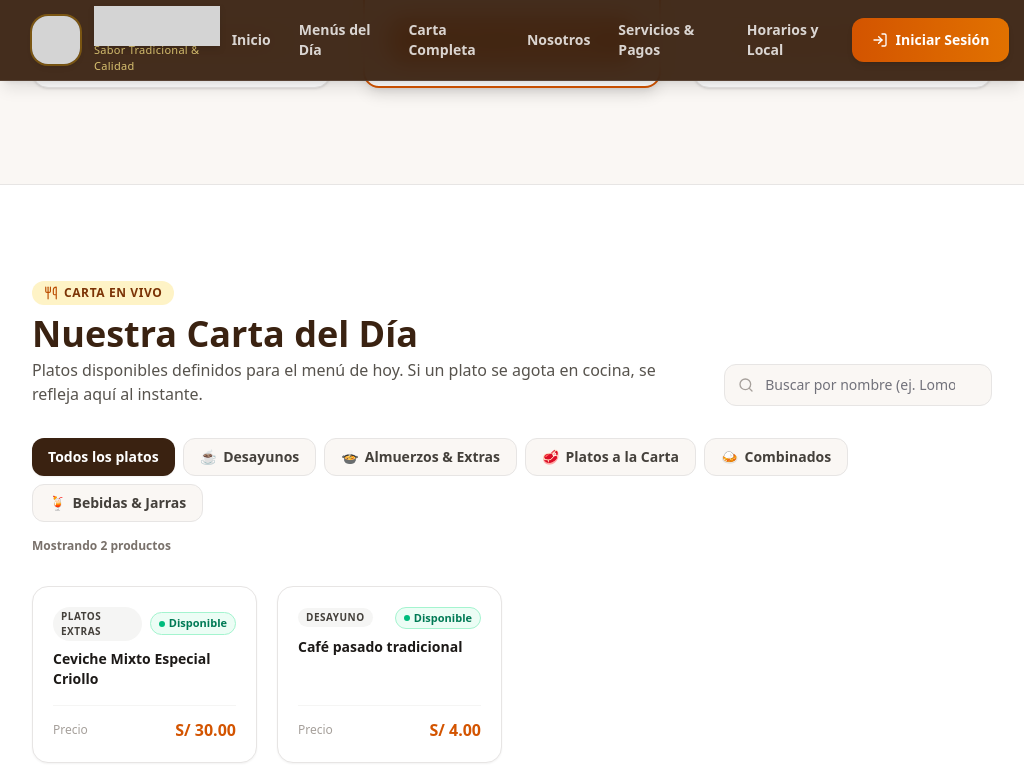
LandingPage - Vista de Bienvenida y Carta Pública › permite buscar platos por nombre en el buscador de la carta
(page scrolled)
Expected: the heading "Ceviche Mixto Especial Criollo" is shown, [53,649,236,689]
Type "Café" into the field with placeholder "Buscar por nombre (ej. Lomo, Café)..." at (858, 385), box [724,364,992,406]
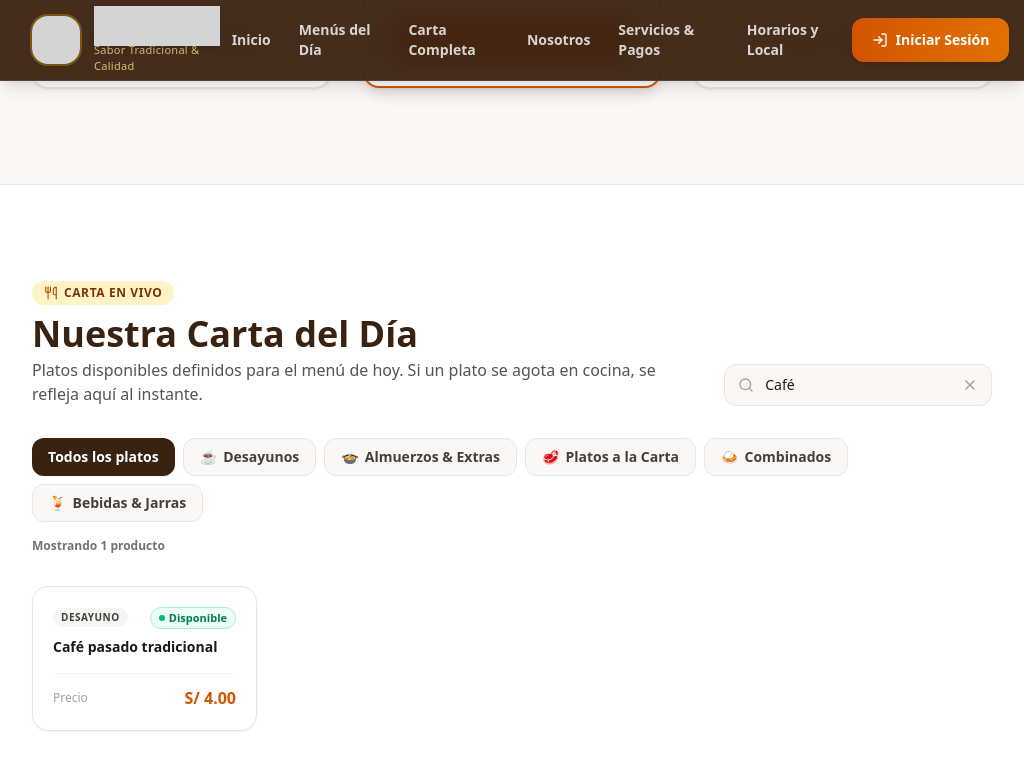
Expected: the heading "Café pasado tradicional" is shown, [53,637,236,657]
Expected: the heading "Ceviche Mixto Especial Criollo" is gone
